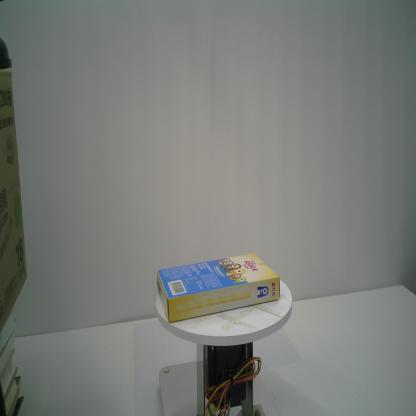Dessert: (156, 254, 280, 323)
